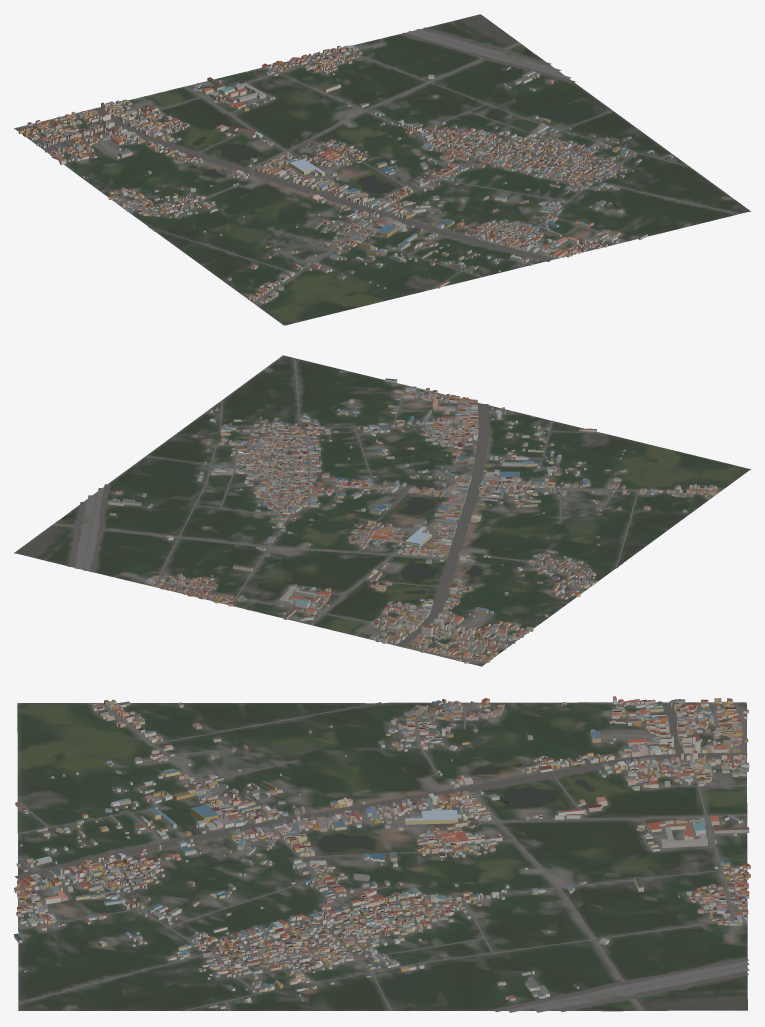
3 renders of one model, top to bottom at view 1: azimuth 30°, elevation 25°; view 2: azimuth 150°, elevation 25°; view 3: azimuth 270°, elevation 25°, orthographic. The views are drawn at different scales.
Parts seen in each view (by area): view 1: ground, buildings, roads, water; view 2: ground, buildings, roads, water; view 3: ground, buildings, roads, water.
Part boxes in pixels (bbox=[...]): ground: bbox=[14, 14, 750, 325]; buildings: bbox=[18, 45, 690, 303]; roads: bbox=[18, 27, 739, 302]; water: bbox=[149, 48, 532, 243]; ground: bbox=[14, 355, 750, 666]; buildings: bbox=[108, 370, 718, 663]; roads: bbox=[53, 358, 719, 663]; water: bbox=[61, 457, 625, 608]; ground: bbox=[17, 702, 747, 1011]; buildings: bbox=[14, 696, 750, 1009]; roads: bbox=[14, 701, 749, 1012]; water: bbox=[197, 702, 743, 1010].
Bounding box in the file's own units: 1419 × 30.63 × 1416.
